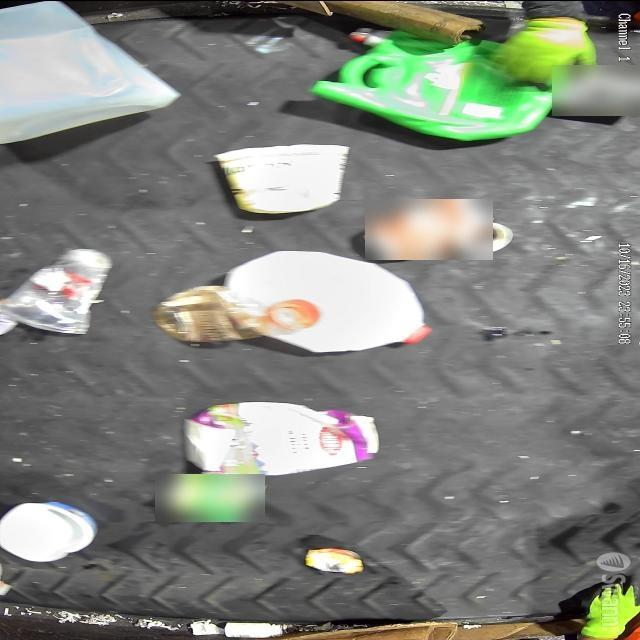milk_jug: (0, 0, 182, 144), (220, 250, 434, 352)
non_white_jug: (307, 28, 553, 138), (184, 400, 380, 478)
